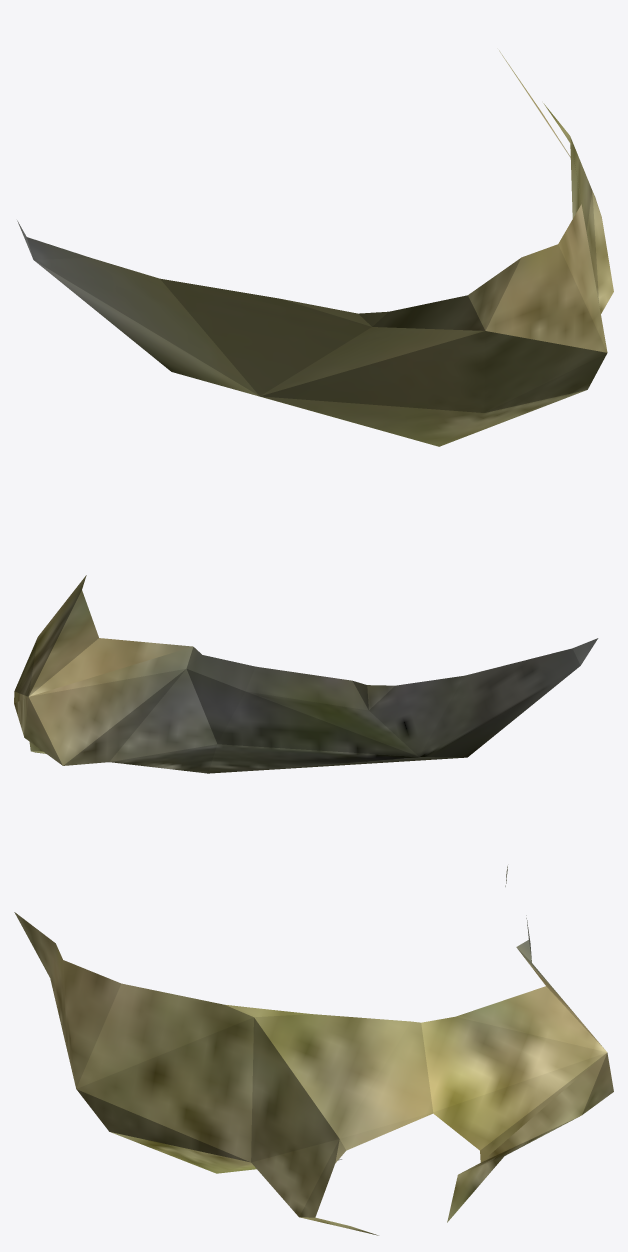
The picture shows the model from 3 angles, top to bottom: view 1: azimuth 30°, elevation 25°; view 2: azimuth 150°, elevation 25°; view 3: azimuth 270°, elevation 25°; orthographic projection. The views are drawn at different scales.
Size of the model in its own units: 0.6678 by 0.2732 by 0.7008.
Materials: 1 (1 with a texture image).
